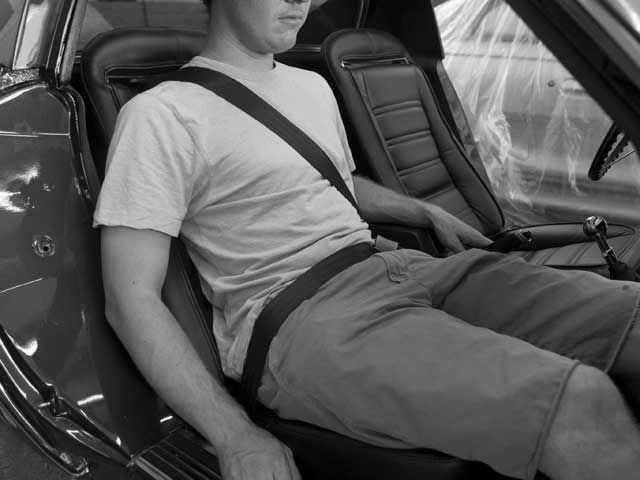Seatbelt: (108, 63, 384, 399)
